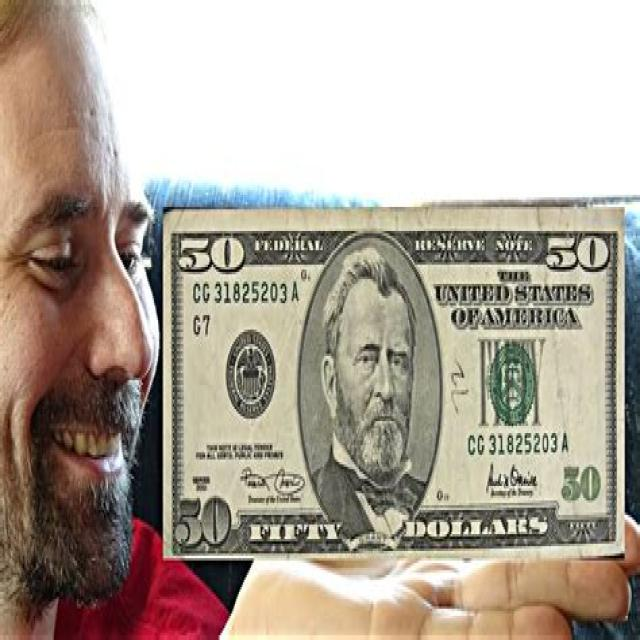Fifty: (161, 204, 626, 563)
